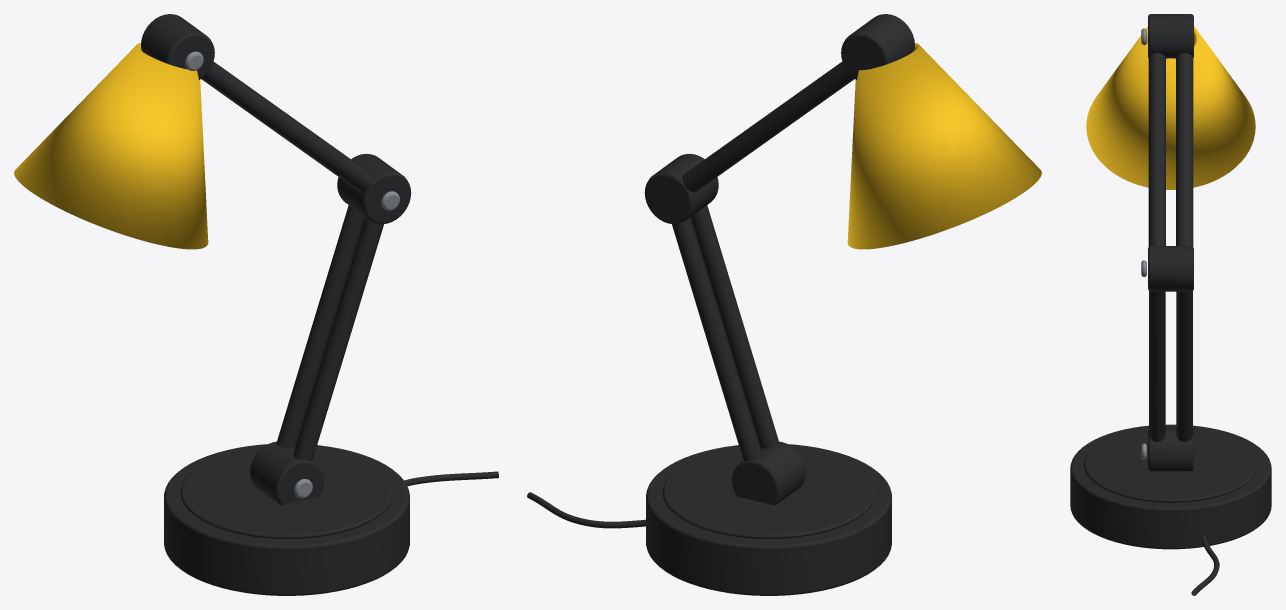
The model's file is result.glb.
3 views of the same model, side by side, from view 1: azimuth 30°, elevation 25°; view 2: azimuth 150°, elevation 25°; view 3: azimuth 270°, elevation 25° (orthographic). The views are drawn at different scales.
Parts seen in each view (by area): view 1: Yellow hollow shade, Weighted circular base, Base inset, Lower parallel arm, Lower parallel arm.001, Upper parallel arm, Hinge, Hinge.002, Hinge.001, Power cable; view 2: Yellow hollow shade, Weighted circular base, Base inset, Lower parallel arm.001, Lower parallel arm, Upper parallel arm.001, Hinge, Hinge.002, Hinge.001, Power cable; view 3: Yellow hollow shade, Weighted circular base, Base inset, Upper parallel arm, Upper parallel arm.001, Lower parallel arm, Lower parallel arm.001, Hinge.001, Hinge.002, Hinge, Power cable.
Part boxes in pixels (x1,y1,x2,y2): Yellow hollow shade: [14, 43, 208, 249]; Weighted circular base: [164, 444, 409, 595]; Base inset: [180, 447, 393, 538]; Lower parallel arm: [293, 217, 383, 461]; Lower parallel arm.001: [276, 205, 365, 448]; Upper parallel arm: [201, 62, 373, 192]; Hinge: [250, 441, 323, 504]; Hinge.002: [141, 14, 214, 79]; Hinge.001: [337, 153, 411, 224]; Power cable: [404, 471, 498, 486]; Yellow hollow shade: [847, 43, 1041, 249]; Weighted circular base: [646, 444, 891, 595]; Base inset: [662, 447, 875, 538]; Lower parallel arm.001: [672, 217, 762, 461]; Lower parallel arm: [690, 205, 779, 448]; Upper parallel arm.001: [682, 62, 854, 192]; Hinge: [732, 441, 805, 504]; Hinge.002: [841, 14, 914, 79]; Hinge.001: [644, 153, 718, 224]; Power cable: [527, 492, 645, 528]; Yellow hollow shade: [1086, 26, 1255, 189]; Weighted circular base: [1070, 424, 1271, 549]; Base inset: [1084, 427, 1257, 502]; Upper parallel arm: [1148, 53, 1165, 246]; Upper parallel arm.001: [1176, 53, 1193, 246]; Lower parallel arm: [1149, 291, 1165, 441]; Lower parallel arm.001: [1176, 291, 1192, 441]; Hinge.001: [1148, 246, 1193, 291]; Hinge.002: [1148, 14, 1193, 58]; Hinge: [1148, 428, 1193, 471]; Power cable: [1191, 535, 1219, 595].
Size of what is drawn, in the model's own units: 2 by 2.16 by 0.88.
